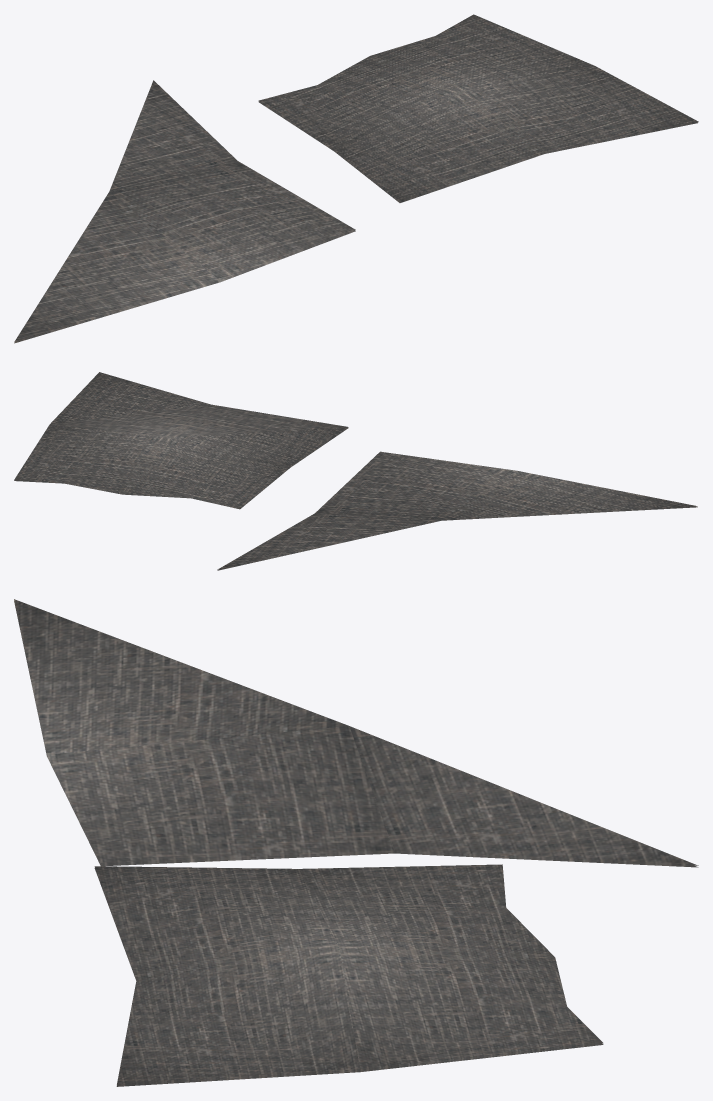
Rendered from Sail_A_Color_B.fbx.
3 renders of one model, top to bottom at view 1: azimuth 30°, elevation 25°; view 2: azimuth 150°, elevation 25°; view 3: azimuth 270°, elevation 25°, orthographic. The views are drawn at different scales.
Parts seen in each view (by area): view 1: Sail_A_Color_B; view 2: Sail_A_Color_B; view 3: Sail_A_Color_B.
Boxes of the visible parts, left/top/right/bottom form: Sail_A_Color_B: left=14, top=14, right=698, bottom=343; Sail_A_Color_B: left=14, top=372, right=697, bottom=570; Sail_A_Color_B: left=14, top=599, right=698, bottom=1086.
Size of the model in its own units: 10.75 by 0.4843 by 6.05.
